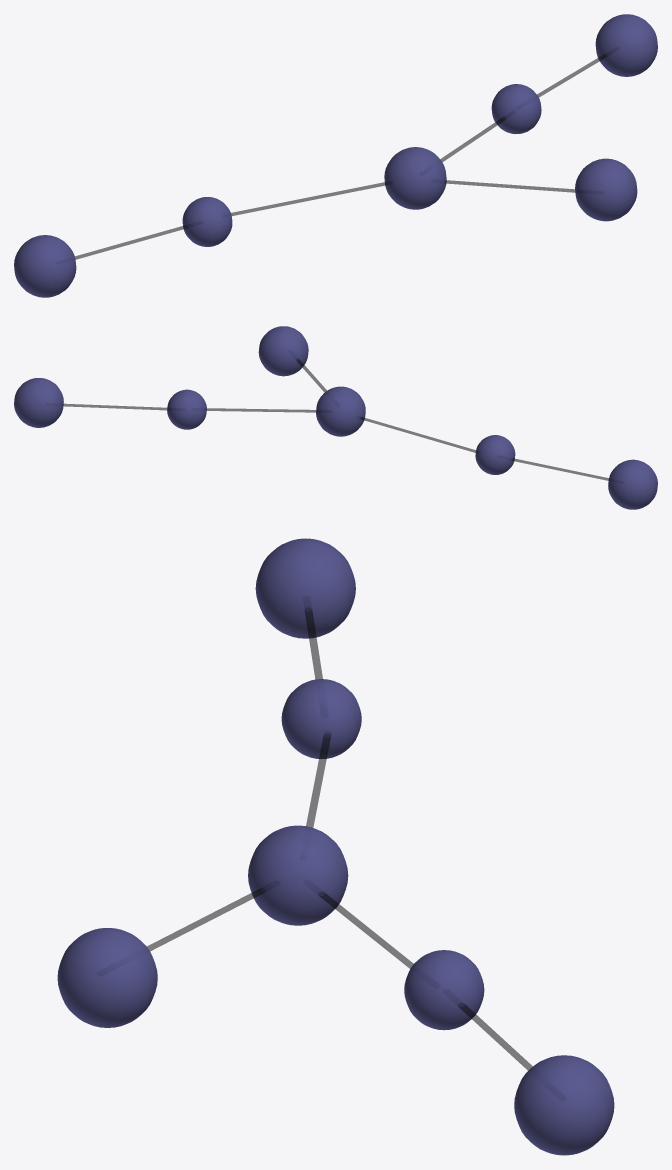
Rendered from Object_cont.fbx.
The picture shows the model from 3 angles, top to bottom: view 1: azimuth 30°, elevation 25°; view 2: azimuth 150°, elevation 25°; view 3: azimuth 270°, elevation 25°; orthographic projection. The views are drawn at different scales.
Parts seen in each view (by area): view 1: pasted__pSphere2, pSphere1, pasted__pasted__pSphere2, pasted__pSphere1, pasted__pasted__pasted__pSphere1, pasted__pasted__pSphere1, pasted__pasted__pCylinder1 (×2), pasted__pCylinder1; view 2: pasted__pasted__pSphere2, pasted__pSphere2, pSphere1, pasted__pSphere1, pasted__pasted__pSphere1, pasted__pasted__pasted__pSphere1, pasted__pCylinder1 (×2), pasted__pasted__pCylinder1, pCylinder1; view 3: pasted__pSphere1, pasted__pasted__pSphere2, pSphere1, pasted__pSphere2, pasted__pasted__pasted__pSphere1, pasted__pasted__pSphere1.
Boxes of the visible parts, box(x1,y1,x2,y2) form: pasted__pSphere2: box(575, 158, 637, 221); pSphere1: box(384, 147, 446, 209); pasted__pasted__pSphere2: box(14, 235, 76, 297); pasted__pSphere1: box(595, 14, 657, 76); pasted__pasted__pasted__pSphere1: box(182, 197, 232, 246); pasted__pasted__pSphere1: box(491, 84, 541, 134); pasted__pasted__pCylinder1 (×2): box(231, 180, 575, 215); pasted__pCylinder1: box(75, 225, 186, 259); pasted__pasted__pSphere2: box(608, 459, 657, 509); pasted__pSphere2: box(258, 326, 308, 376); pSphere1: box(316, 386, 365, 436); pasted__pSphere1: box(14, 378, 63, 427); pasted__pasted__pSphere1: box(167, 389, 206, 429); pasted__pasted__pasted__pSphere1: box(475, 435, 515, 474); pasted__pCylinder1 (×2): box(206, 408, 608, 480); pasted__pasted__pCylinder1: box(359, 417, 475, 452); pCylinder1: box(62, 403, 167, 410); pasted__pSphere1: box(514, 1055, 614, 1155); pasted__pasted__pSphere2: box(255, 538, 355, 638); pSphere1: box(248, 825, 348, 925); pasted__pSphere2: box(57, 928, 157, 1027); pasted__pasted__pasted__pSphere1: box(281, 679, 361, 758); pasted__pasted__pSphere1: box(404, 950, 484, 1030).
Size of the model in its own units: 26.39 by 2 by 11.11.
